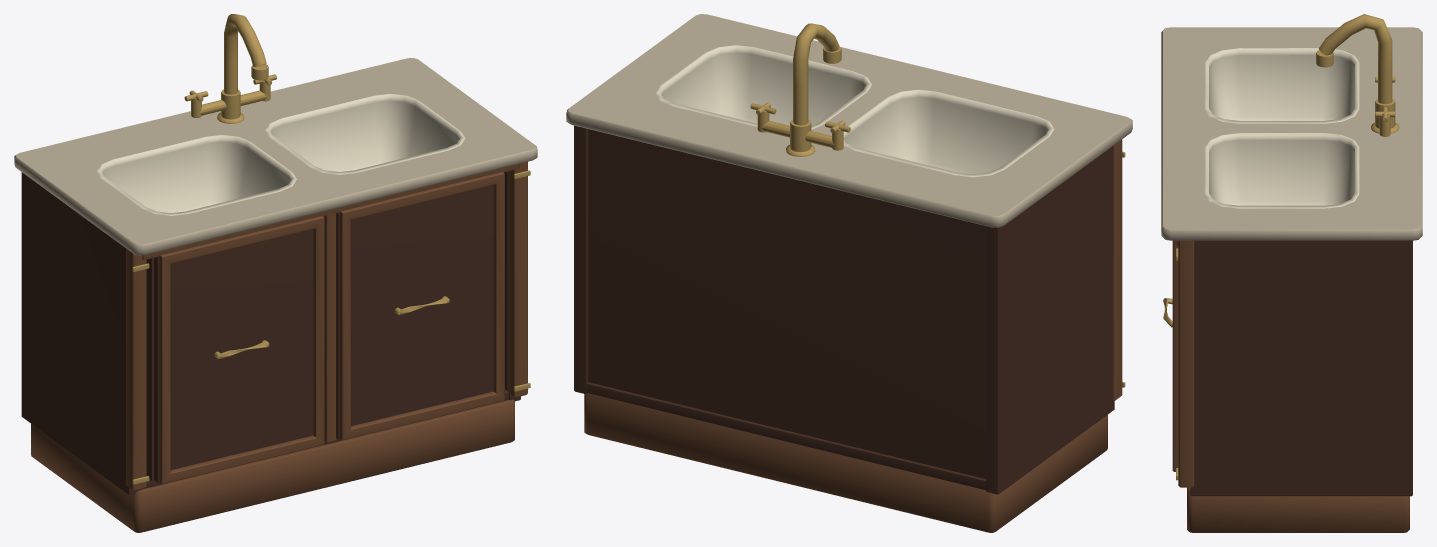
File: rpg-mansion-scullery-double-sink-1200-01.glb
3 renders of one model, left to right at view 1: azimuth 30°, elevation 25°; view 2: azimuth 150°, elevation 25°; view 3: azimuth 270°, elevation 25°, orthographic. The views are drawn at different scales.
Visible parts, largest first — view 1: rpg-mansion-scullery-double-sink-1200-01; view 2: rpg-mansion-scullery-double-sink-1200-01; view 3: rpg-mansion-scullery-double-sink-1200-01.
Boxes of the visible parts, x1,y1,x2,y2 form: rpg-mansion-scullery-double-sink-1200-01: [14, 14, 537, 532]; rpg-mansion-scullery-double-sink-1200-01: [566, 14, 1132, 532]; rpg-mansion-scullery-double-sink-1200-01: [1161, 14, 1422, 532].
Size of the model in its own units: 1.2 by 1.16 by 0.65.
